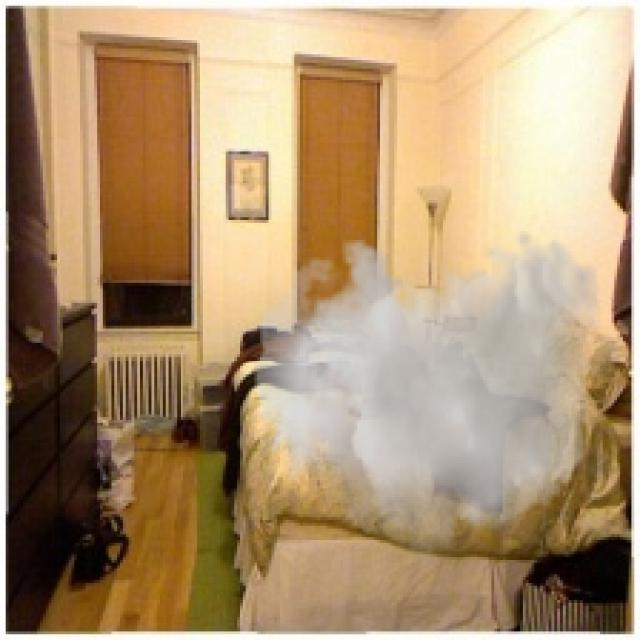Smoke: (254, 225, 603, 578)
